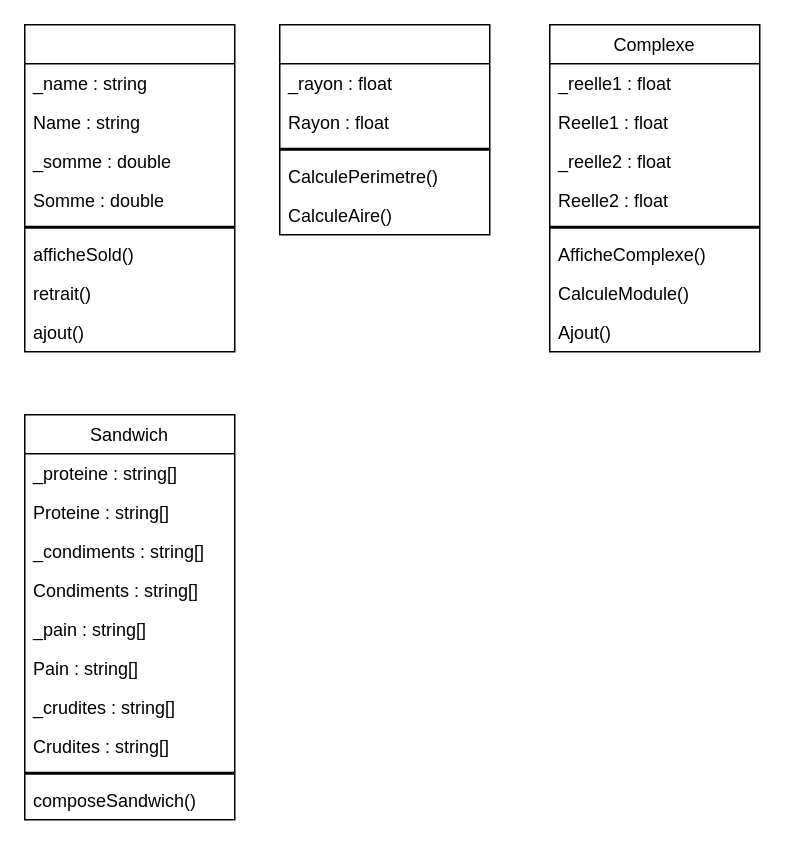
Image size: 785x845. Some labels were removed from this diagram. The box of each missing label's shape, as (x1, y1, x2, y2) in pixels:
Bank: (23, 23, 235, 352)
Cercle: (278, 23, 490, 235)
